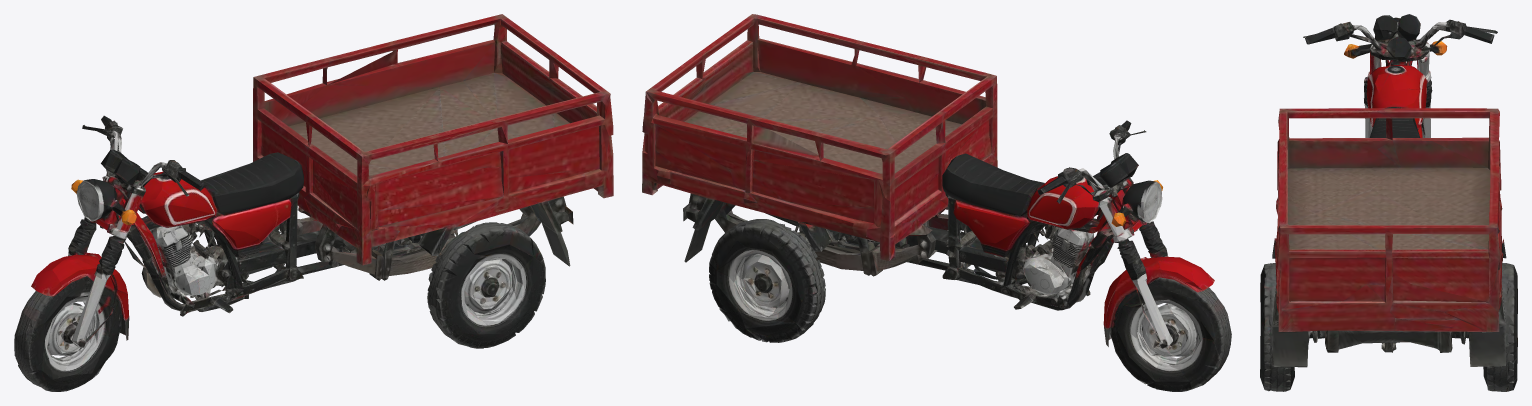
File: trike.glb
3 renders of one model, left to right at view 1: azimuth 30°, elevation 25°; view 2: azimuth 150°, elevation 25°; view 3: azimuth 270°, elevation 25°, orthographic. The views are drawn at different scales.
Parts seen in each view (by area): view 1: output_unwrapped; view 2: output_unwrapped; view 3: output_unwrapped.
Part boxes in pixels (left/top/right/bottom): output_unwrapped: left=14, top=14, right=613, bottom=391; output_unwrapped: left=642, top=14, right=1231, bottom=391; output_unwrapped: left=1260, top=14, right=1517, bottom=391.
Bounding box in the file's own units: 1.9 × 0.7601 × 0.7826.
1 material, 1 textured.
